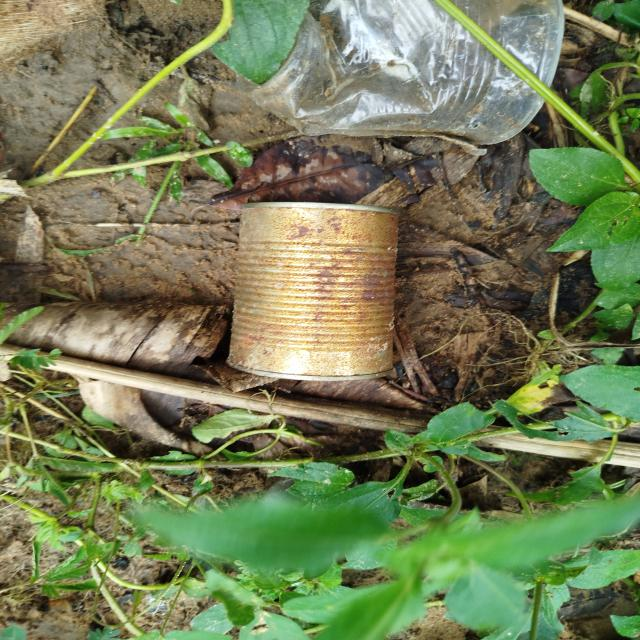metal: (218, 189, 431, 403)
plastic: (240, 0, 576, 159)
